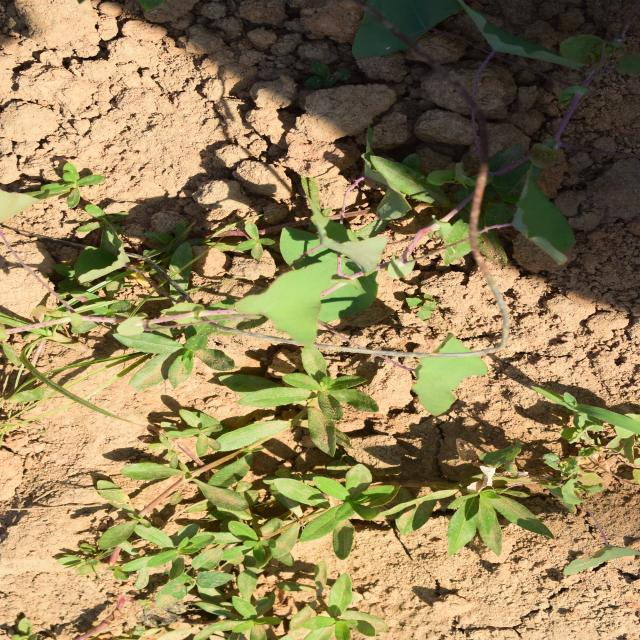Asiatic_Smartweed: (297, 213, 448, 397), (368, 470, 467, 594)
